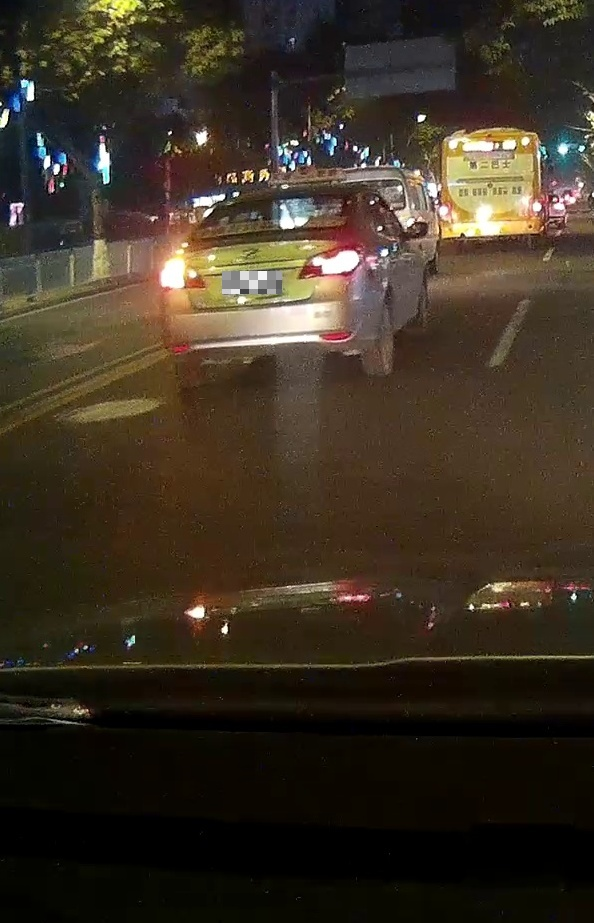L_light: (156, 257, 207, 290), (438, 205, 447, 217)
R_light: (297, 244, 362, 281), (532, 201, 542, 212)
T_light: (253, 200, 279, 206), (478, 140, 497, 144)
night-left: (159, 185, 365, 389)
night-no: (438, 132, 544, 256)
plate_1: (222, 271, 282, 294)
